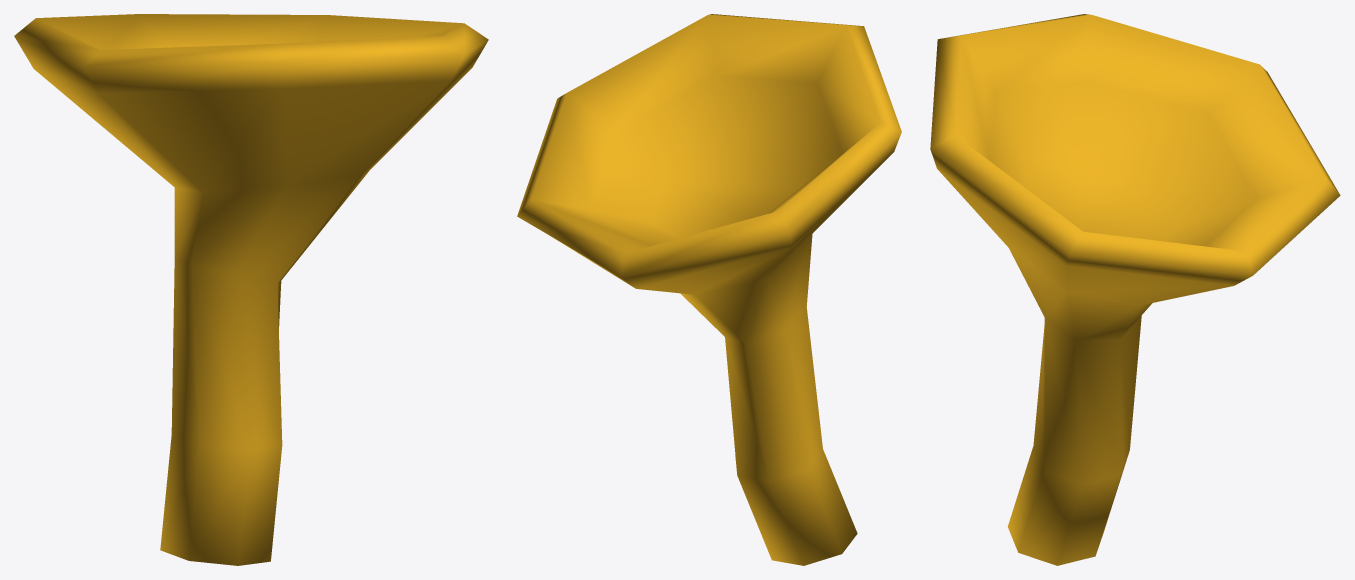
The model's file is FolsChanterelleMushroom.fbx.
3 renders of one model, left to right at view 1: azimuth 30°, elevation 25°; view 2: azimuth 150°, elevation 25°; view 3: azimuth 270°, elevation 25°, orthographic. The views are drawn at different scales.
Visible parts, largest first — view 1: Cylinder.019; view 2: Cylinder.019; view 3: Cylinder.019.
Boxes of the visible parts, x1,y1,x2,y2 form: Cylinder.019: (14,14,488,565); Cylinder.019: (517,14,901,565); Cylinder.019: (930,14,1340,565).
Bounding box in the file's own units: 17.36 × 23.15 × 16.7.
